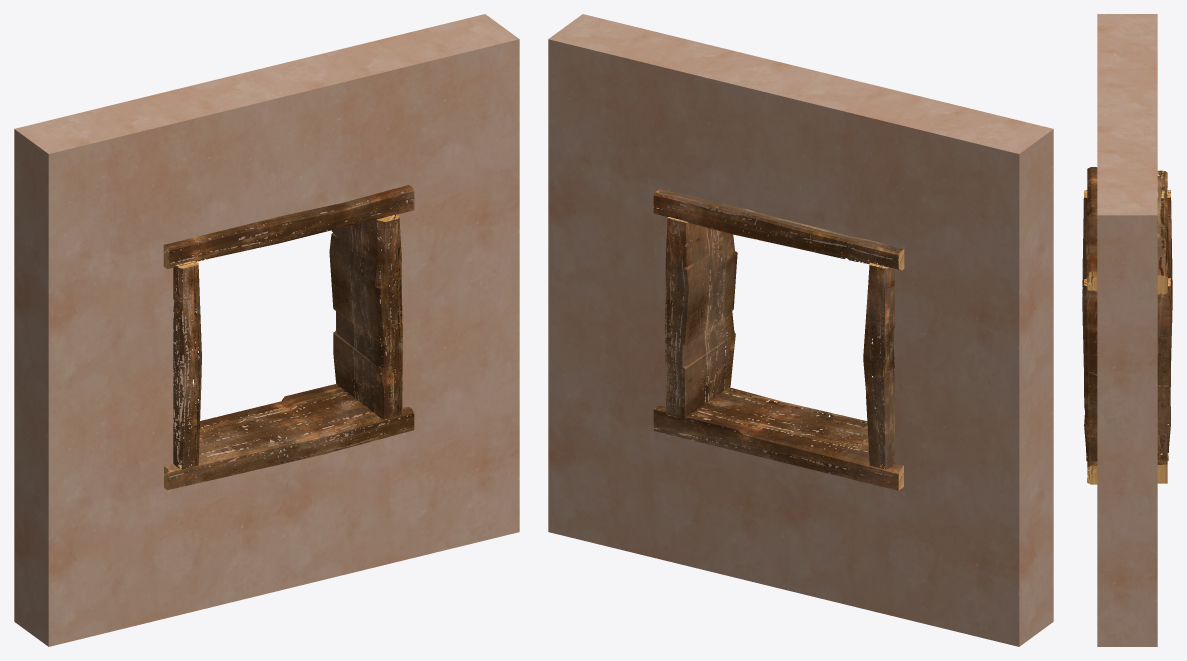
3 renders of one model, left to right at view 1: azimuth 30°, elevation 25°; view 2: azimuth 150°, elevation 25°; view 3: azimuth 270°, elevation 25°, orthographic. The views are drawn at different scales.
Visible parts, largest first — view 1: SM_BB_T4_Wall_Large_Windowframe_02_LOD0; view 2: SM_BB_T4_Wall_Large_Windowframe_02_LOD0; view 3: SM_BB_T4_Wall_Large_Windowframe_02_LOD0.
Boxes of the visible parts, x1=… form: SM_BB_T4_Wall_Large_Windowframe_02_LOD0: x1=14, y1=14, x2=519, y2=646; SM_BB_T4_Wall_Large_Windowframe_02_LOD0: x1=548, y1=14, x2=1053, y2=646; SM_BB_T4_Wall_Large_Windowframe_02_LOD0: x1=1082, y1=14, x2=1172, y2=646.
Bounding box in the file's own units: 3 × 3 × 0.5701.
2 materials, 2 textured.
